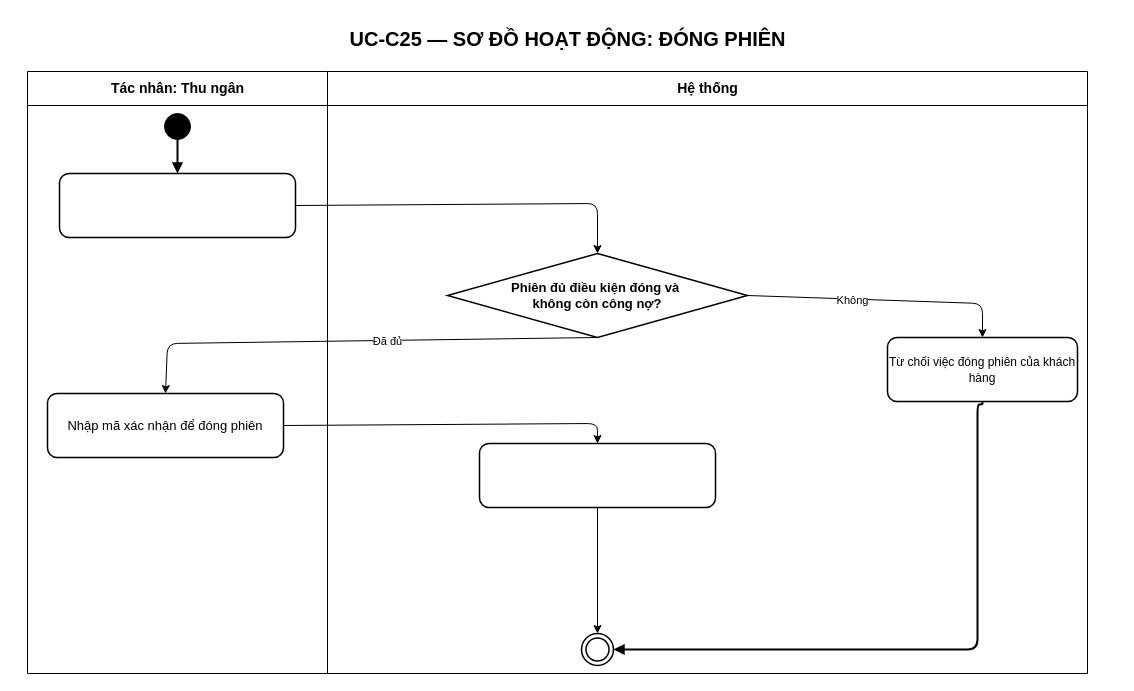
The diagram is 1134 pixels wide and 691 high, and some of its shapes have lost their labels. The shapes that lost their labels are listed below. From the top down, each one's centre as x and y in pixels, then its label:
At pixel 177 205: "Chọn đóng phiên sau thanh toán".
At pixel 597 475: "Hệ thống kiểm tra và đóng phiên".
